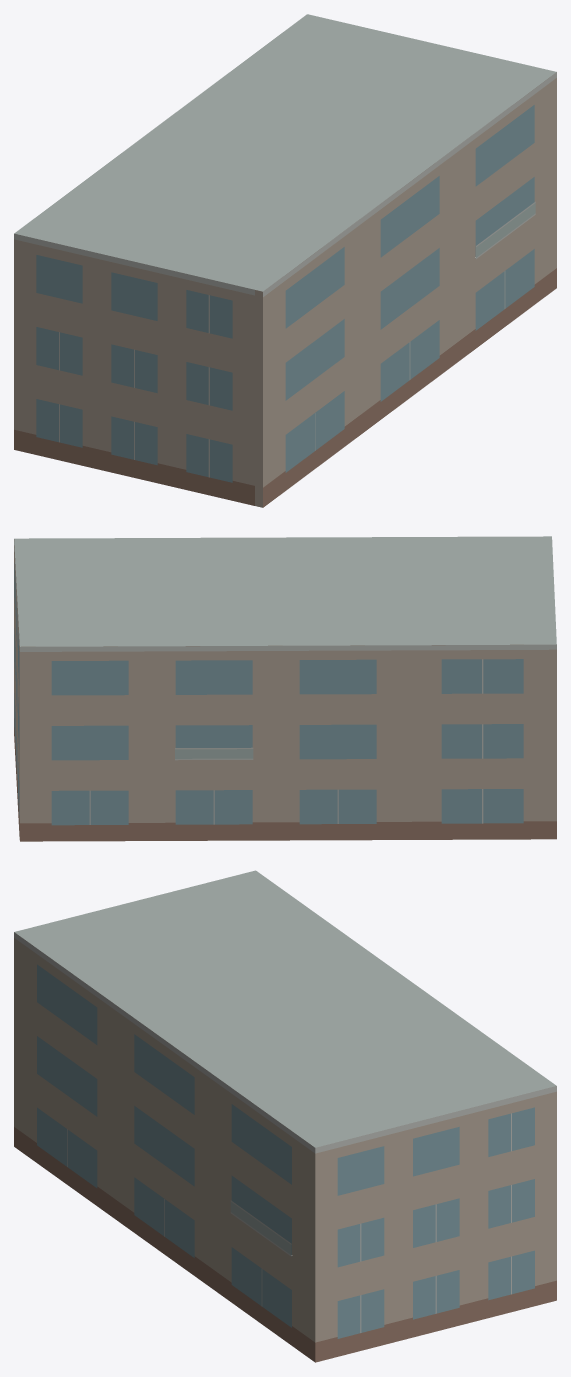
File: survey-upis-32753234.glb
The picture shows the model from 3 angles, top to bottom: view 1: azimuth 30°, elevation 25°; view 2: azimuth 150°, elevation 25°; view 3: azimuth 270°, elevation 25°; orthographic projection. The views are drawn at different scales.
Parts seen in each view (by area): view 1: survey-upis-32753234.tmp; view 2: survey-upis-32753234.tmp; view 3: survey-upis-32753234.tmp.
Boxes of the visible parts, <box> form: survey-upis-32753234.tmp: <box>14,14,556,507</box>; survey-upis-32753234.tmp: <box>14,536,556,841</box>; survey-upis-32753234.tmp: <box>14,870,556,1362</box>.
Size of the model in its own units: 25.37 by 9.15 by 20.98.
